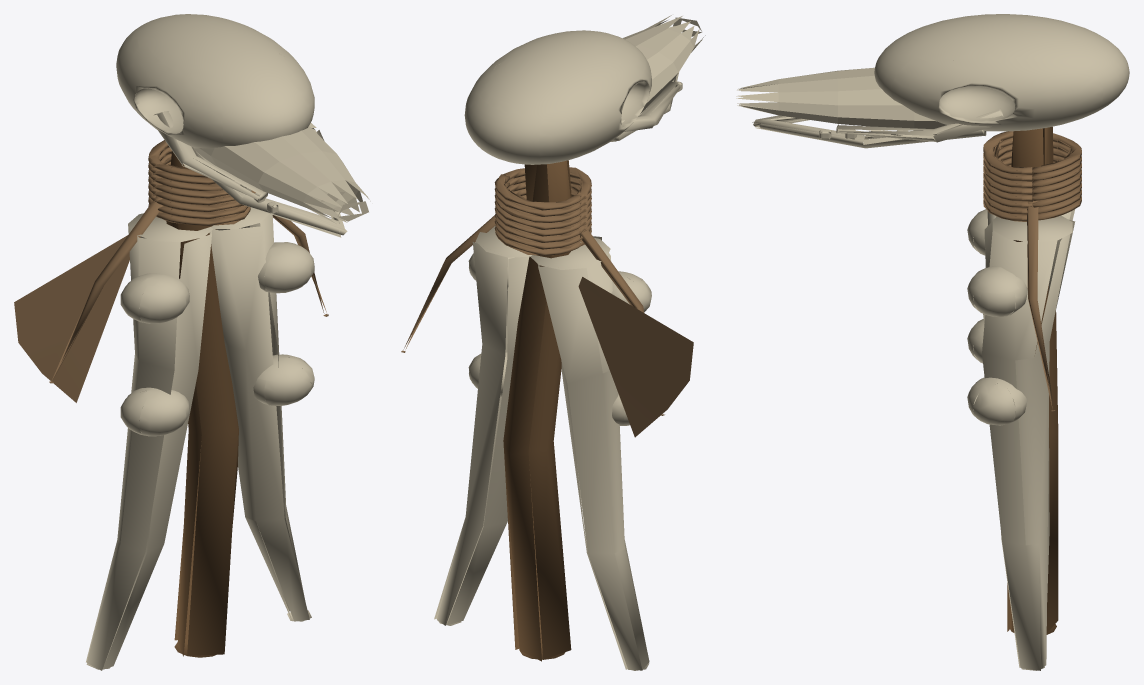
File: sklpole3_lod1.glb
3 views of the same model, side by side, from view 1: azimuth 30°, elevation 25°; view 2: azimuth 150°, elevation 25°; view 3: azimuth 270°, elevation 25° (orthographic). The views are drawn at different scales.
Parts seen in each view (by area): view 1: SKL long splayed pale bone -1, SKL elongated animal cranium, SKL long splayed pale bone 1, SKL central weathered support, SKL tattered hanging hide, SKL tapered long muzzle, SKL tied joint bone.001, SKL tied joint bone, SKL tied joint bone.002, SKL tied joint bone.003, SKL tied hanging tendon -1, SKL cheek arch -1 (+10 smaller); view 2: SKL central weathered support, SKL elongated animal cranium, SKL long splayed pale bone -1, SKL long splayed pale bone 1, SKL tattered hanging hide, SKL tapered long muzzle, SKL hide coil 7, SKL tied hanging tendon -1, SKL tied hanging tendon 1, SKL cheek arch -1, SKL hide coil 6, SKL hide coil 5 (+6 smaller); view 3: SKL elongated animal cranium, SKL long splayed pale bone 1, SKL tapered long muzzle, SKL central weathered support, SKL tied joint bone.003, SKL tied joint bone.002, SKL lower long jaw, SKL cheek arch 1, SKL tied hanging tendon 1, SKL hide coil 7, SKL hide coil 6, SKL hide coil 5 (+6 smaller).
Boxes of the visible parts, x1,y1,x2,y2 form: SKL long splayed pale bone -1: (86,213,212,670); SKL elongated animal cranium: (116,14,314,148); SKL long splayed pale bone 1: (209,207,311,621); SKL central weathered support: (166,151,238,657); SKL tattered hanging hide: (14,235,129,402); SKL tapered long muzzle: (194,126,370,223); SKL tied joint bone.001: (120,273,189,323); SKL tied joint bone: (120,387,189,436); SKL tied joint bone.002: (253,354,314,405); SKL tied joint bone.003: (258,242,314,293); SKL tied hanging tendon -1: (49,191,163,383); SKL cheek arch -1: (154,111,267,200); SKL central weathered support: (503,160,571,661); SKL elongated animal cranium: (464,30,651,164); SKL long splayed pale bone -1: (530,236,649,670); SKL long splayed pale bone 1: (434,226,531,625); SKL tattered hanging hide: (578,277,693,437); SKL tapered long muzzle: (622,15,705,113); SKL hide coil 7: (494,167,591,210); SKL tied hanging tendon -1: (578,221,664,415); SKL tied hanging tendon 1: (401,195,525,352); SKL cheek arch -1: (621,82,680,131); SKL hide coil 6: (494,175,591,216); SKL hide coil 5: (494,182,591,222); SKL elongated animal cranium: (874,14,1129,131); SKL long splayed pale bone 1: (982,215,1075,670); SKL tapered long muzzle: (736,67,948,128); SKL central weathered support: (1007,126,1058,634); SKL tied joint bone.003: (967,266,1027,316); SKL tied joint bone.002: (967,377,1027,425); SKL lower long jaw: (752,115,986,148); SKL cheek arch 1: (836,108,1003,142); SKL tied hanging tendon 1: (1027,197,1055,411); SKL hide coil 7: (983,131,1081,175); SKL hide coil 6: (983,137,1081,181); SKL hide coil 5: (983,144,1081,188).
Bounding box in the file's own units: 0.9001 × 1.72 × 1.02.
